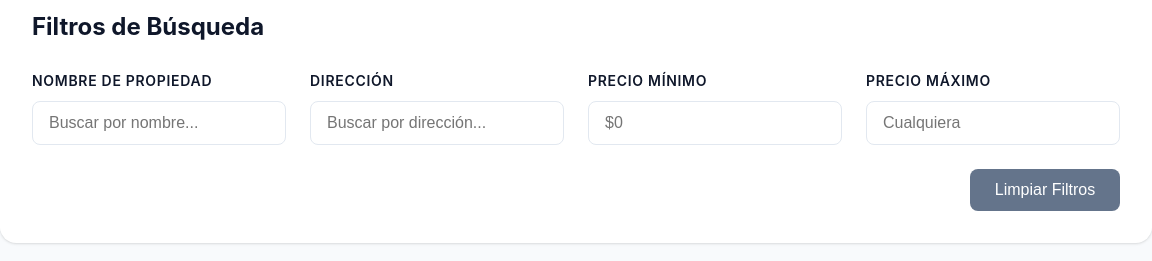
Scenario: PropertyFilter › should reset all filters when reset button is clicked
// Set some values
Type "Test" into the field labelled "Nombre de Propiedad" at (159, 123), box [32,101,286,145]
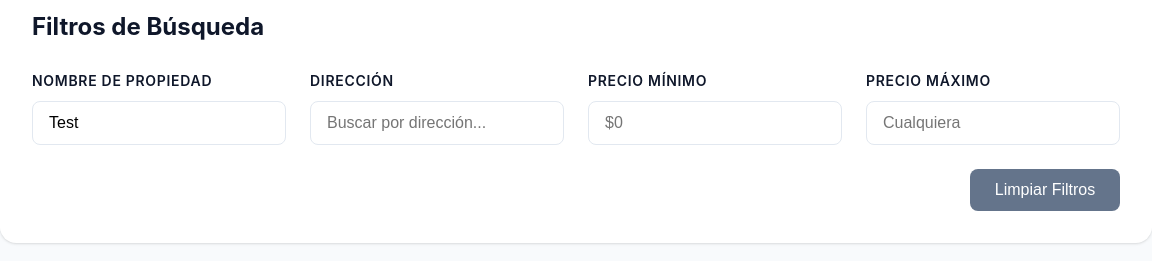
Type "Address" into the field labelled "Dirección" at (437, 123), box [310,101,564,145]
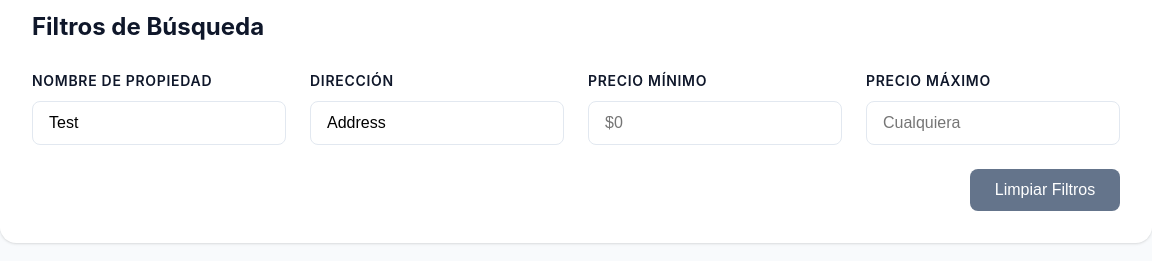
Type "100000" into the number field labelled "Precio Mínimo" at (715, 123), box [588,101,842,145]
Wait 500 ms
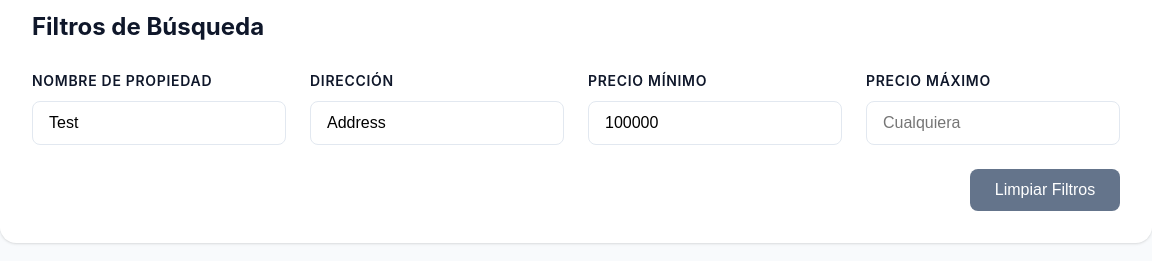
// Click reset
Click the button "Limpiar Filtros" at (1045, 190), box [970,169,1120,211]
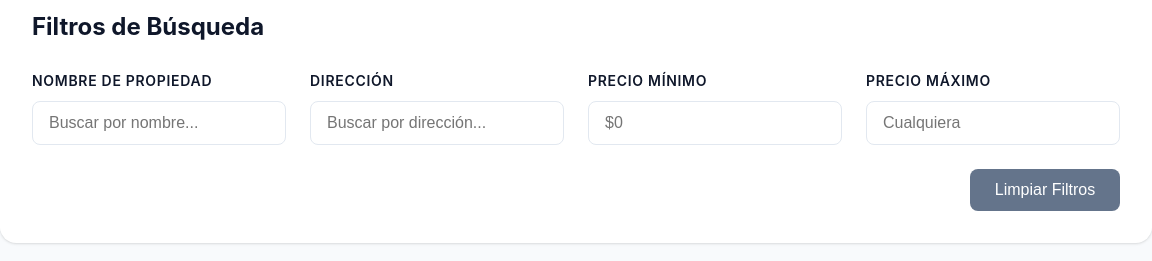
Result: the field labelled "Nombre de Propiedad" is empty at [32,101,286,145]
Result: the field labelled "Dirección" is empty at [310,101,564,145]
Result: the number field labelled "Precio Mínimo" is empty at [588,101,842,145]
